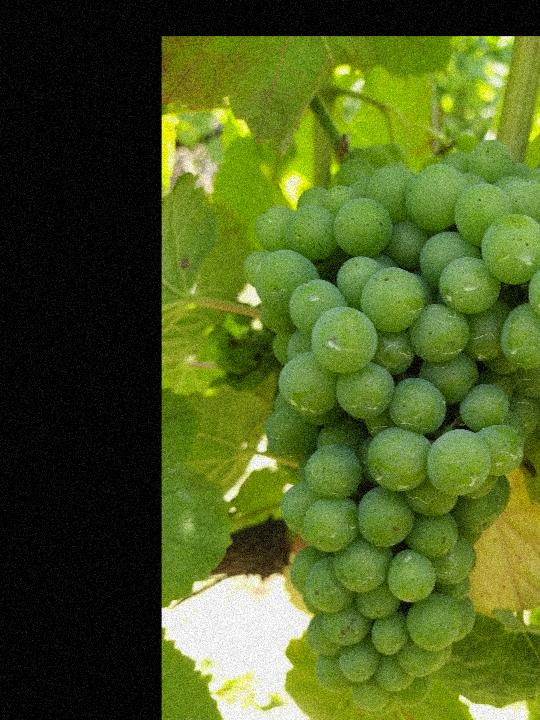grape: (238, 153, 540, 717)
